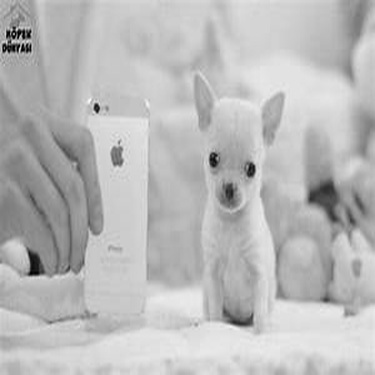dog: (168, 56, 294, 338)
